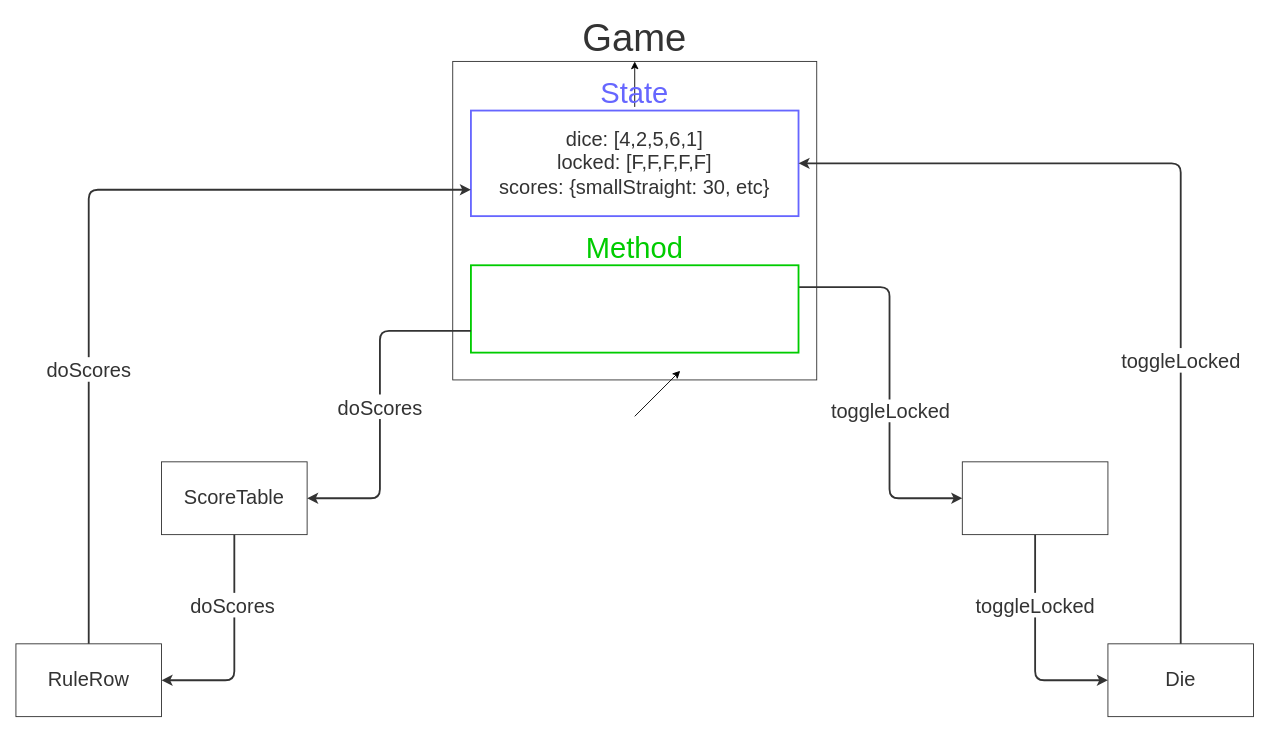
This 1269x733 diagram has some shape labels left out. Each missing label, with the box of its shape:
Dice: (961, 461, 1108, 535)
toggleLocked doScores: (470, 264, 799, 353)
